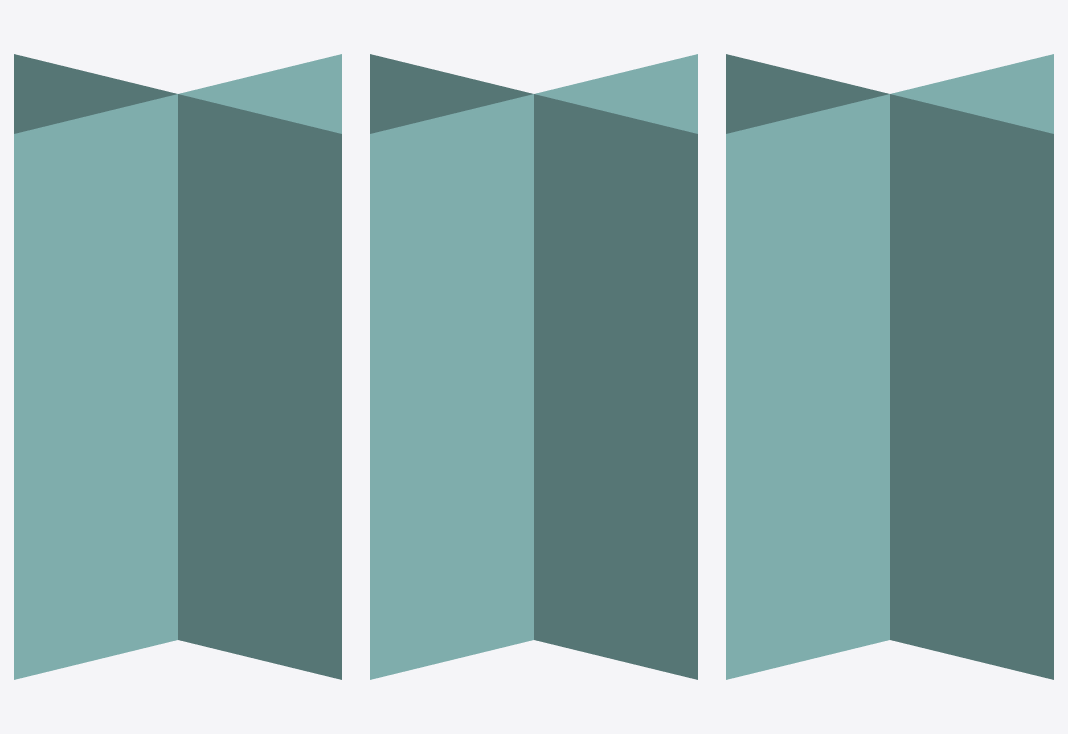
Rendered from Test_CheonRef_SpiritFlame.fbx.
The picture shows the model from 3 angles, left to right: view 1: azimuth 30°, elevation 25°; view 2: azimuth 150°, elevation 25°; view 3: azimuth 270°, elevation 25°; orthographic projection.
Visible parts, largest first — view 1: SeparateSpiritFlameCard, SeparateSpiritFlameCard.002; view 2: SeparateSpiritFlameCard, SeparateSpiritFlameCard.001; view 3: SeparateSpiritFlameCard.001, SeparateSpiritFlameCard.002.
Boxes of the visible parts, x1,y1,x2,y2 form: SeparateSpiritFlameCard: (14, 54, 341, 679); SeparateSpiritFlameCard.002: (14, 54, 341, 679); SeparateSpiritFlameCard: (370, 54, 697, 679); SeparateSpiritFlameCard.001: (370, 54, 697, 679); SeparateSpiritFlameCard.001: (726, 54, 1053, 679); SeparateSpiritFlameCard.002: (726, 54, 1053, 679).
Bounding box in the file's own units: 44 × 70 × 38.11.
